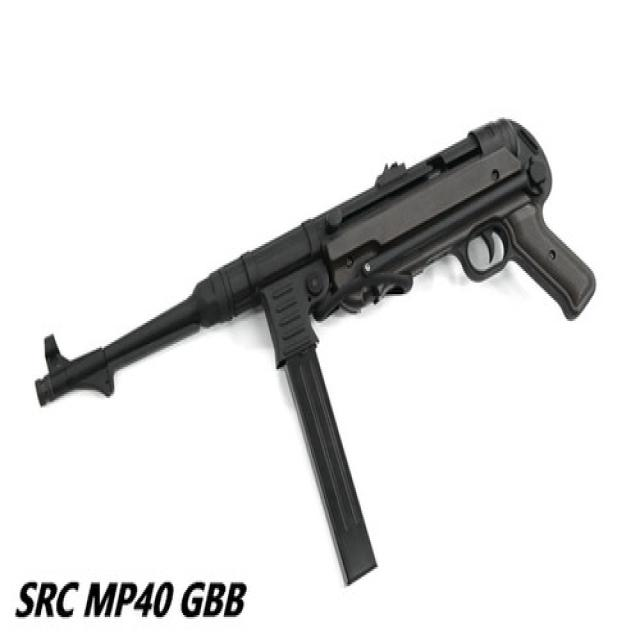SMG: (33, 119, 598, 590)
